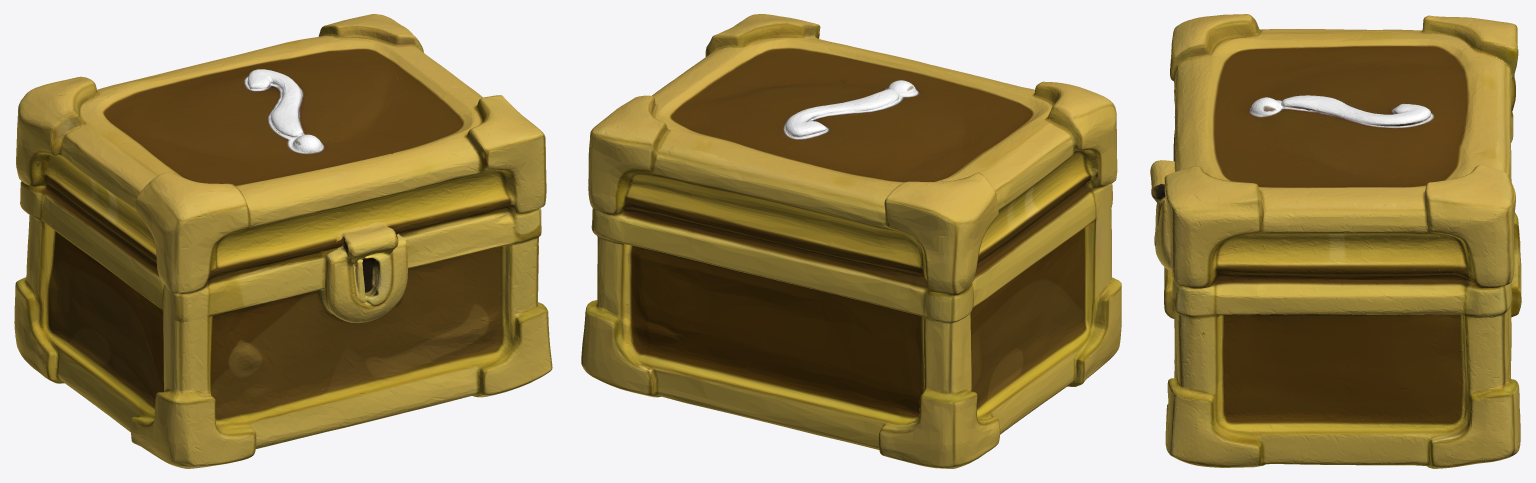
Rendered from grand.glb.
3 views of the same model, side by side, from view 1: azimuth 30°, elevation 25°; view 2: azimuth 150°, elevation 25°; view 3: azimuth 270°, elevation 25° (orthographic). The views are drawn at different scales.
Visible parts, largest first — view 1: world; view 2: world; view 3: world.
Part boxes in pixels (left/top/right/bottom): world: left=14, top=14, right=552, bottom=468; world: left=581, top=14, right=1121, bottom=468; world: left=1150, top=14, right=1521, bottom=468.
Size of the model in its own units: 1.98 by 1.37 by 1.6.
1 material, 1 textured.
